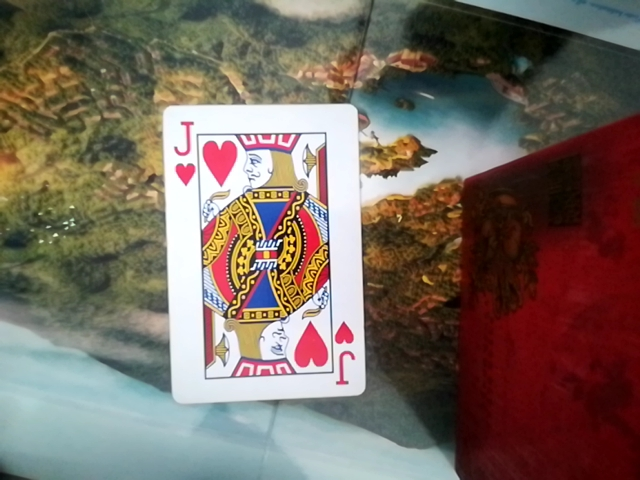hx j: (157, 102, 365, 403)
